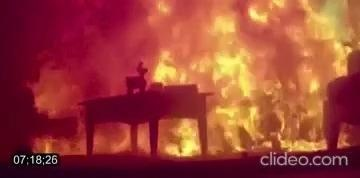fire: (30, 0, 360, 147)
